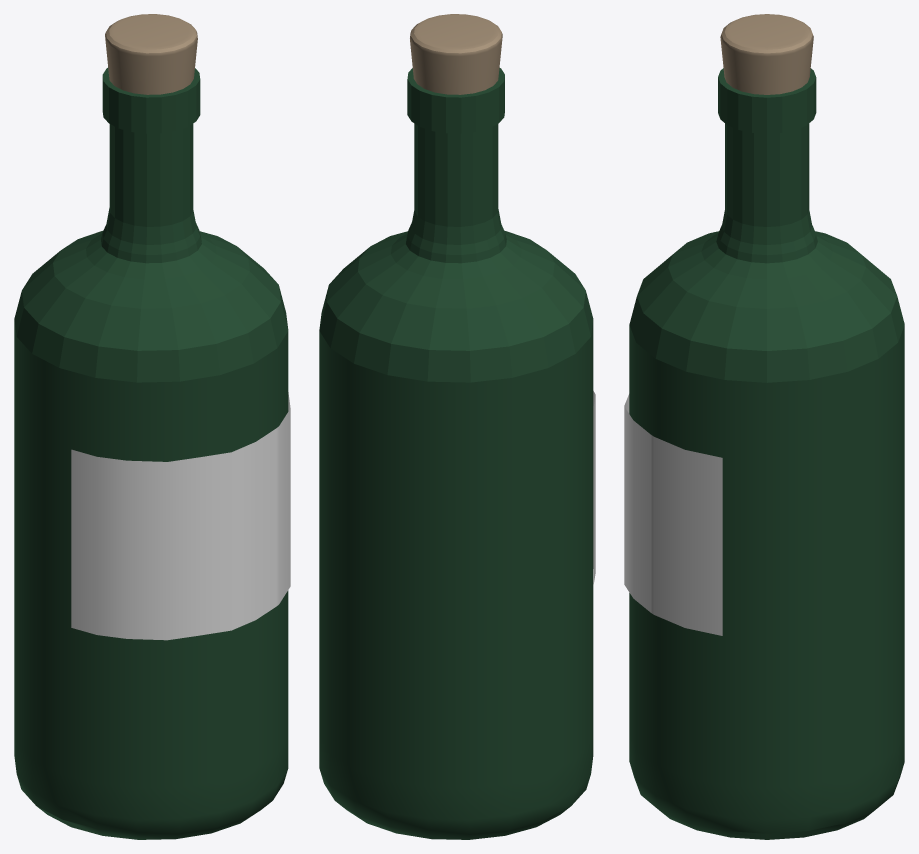
The model's file is OilBottle.fbx.
3 renders of one model, left to right at view 1: azimuth 30°, elevation 25°; view 2: azimuth 150°, elevation 25°; view 3: azimuth 270°, elevation 25°, orthographic.
Parts seen in each view (by area): view 1: Bottle, Lable, Cork1; view 2: Bottle, Cork1, Lable; view 3: Bottle, Lable, Cork1.
Boxes of the visible parts, bbox=[...] form: Bottle: bbox=[14, 67, 288, 839]; Lable: bbox=[71, 392, 290, 640]; Cork1: bbox=[105, 14, 197, 94]; Bottle: bbox=[319, 68, 593, 839]; Cork1: bbox=[410, 14, 502, 94]; Lable: bbox=[593, 391, 595, 583]; Bottle: bbox=[629, 68, 904, 839]; Lable: bbox=[624, 394, 722, 635]; Cork1: bbox=[720, 14, 813, 94].
Size of the model in its own units: 2 by 6.11 by 2.04.
